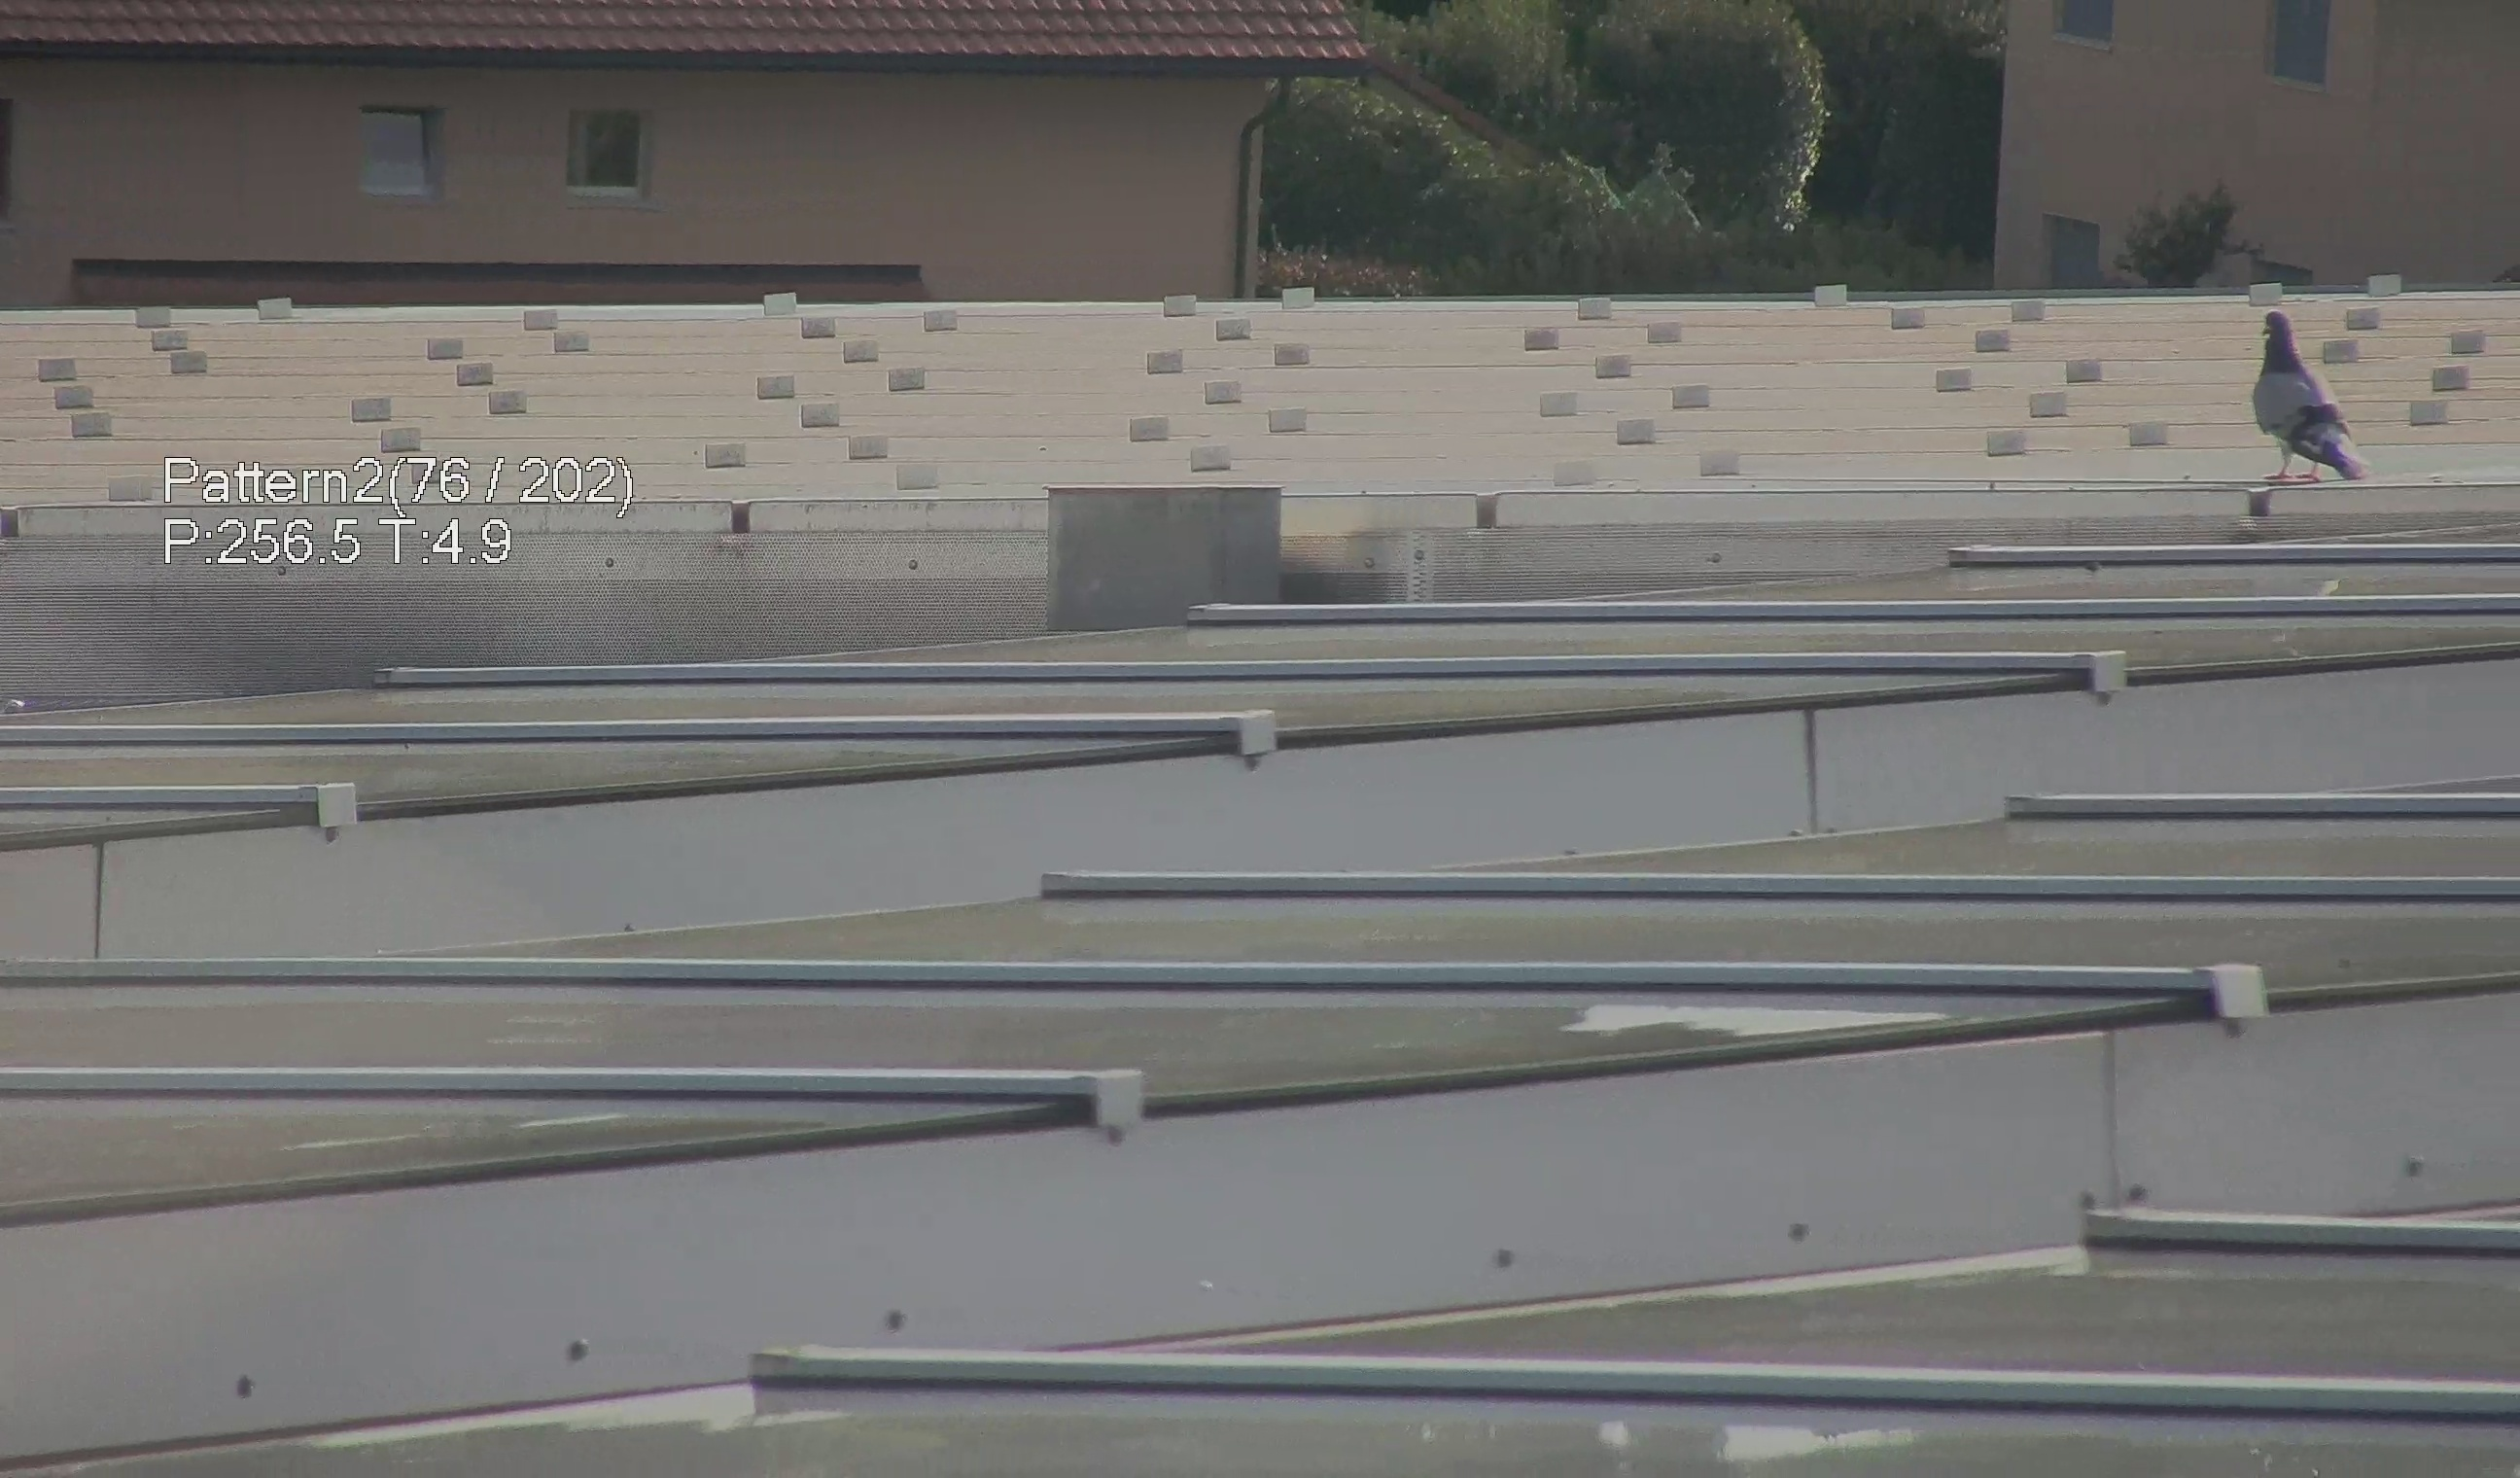Pigeon: (2242, 297, 2379, 493)
